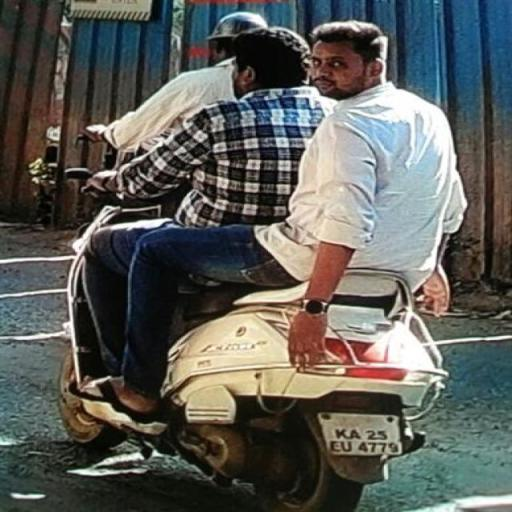tripple riding: (51, 10, 479, 318)
